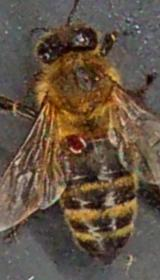varroa_mite: (58, 125, 90, 158)
